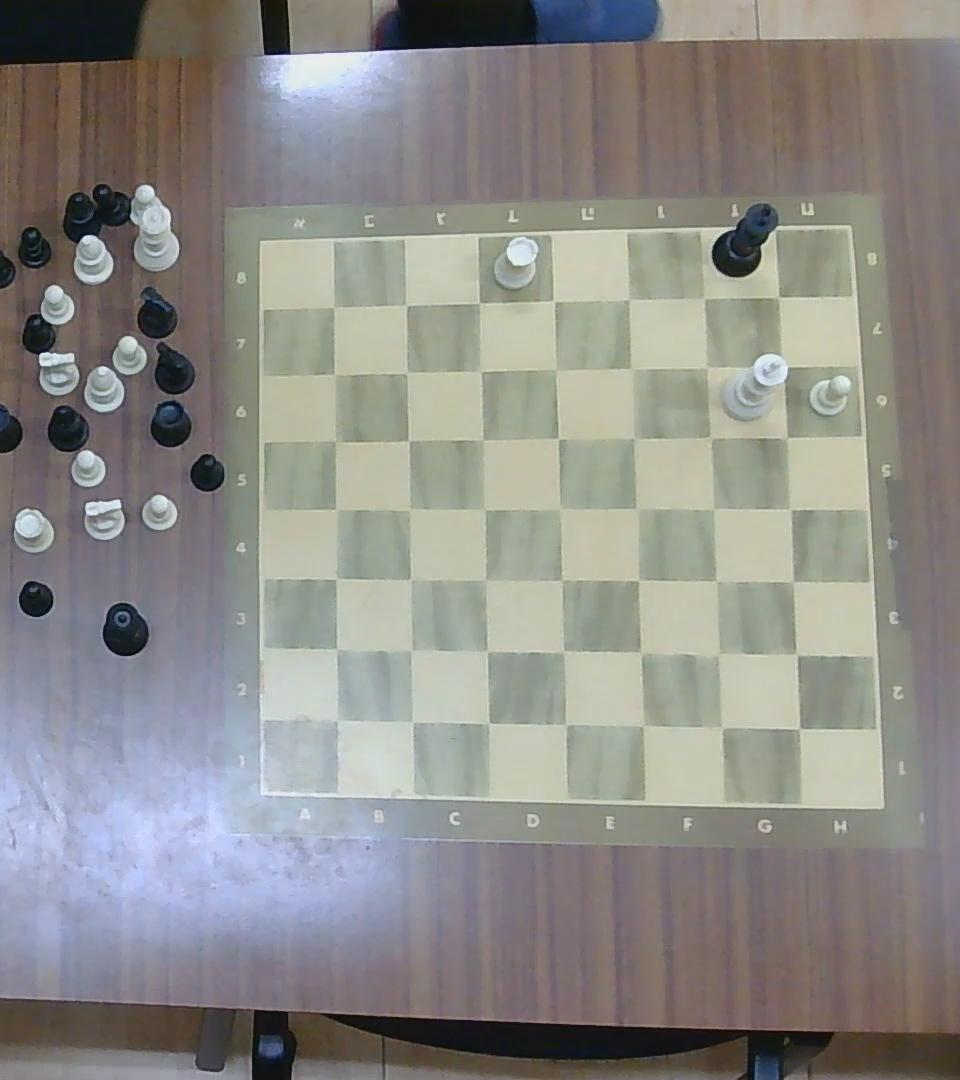xcorner: (702, 636, 734, 669), (471, 705, 502, 739), (548, 707, 579, 740), (626, 707, 657, 740), (699, 564, 730, 596), (621, 491, 652, 523), (705, 710, 735, 743), (464, 285, 494, 318), (781, 637, 812, 668), (775, 492, 806, 523), (625, 635, 655, 667), (548, 635, 578, 667), (471, 635, 501, 667), (783, 711, 813, 743), (622, 564, 652, 596), (538, 284, 568, 316), (547, 564, 577, 596), (321, 702, 351, 734), (470, 563, 500, 594), (698, 492, 728, 523), (541, 352, 571, 383), (776, 565, 807, 595), (616, 352, 646, 383), (768, 349, 799, 379), (397, 704, 426, 736), (465, 354, 495, 384), (317, 290, 347, 320), (771, 420, 801, 450), (395, 634, 424, 665), (391, 288, 420, 319), (321, 563, 350, 594), (394, 494, 423, 524), (545, 494, 574, 524), (615, 283, 644, 313), (543, 422, 573, 451), (395, 563, 423, 594), (392, 356, 421, 385), (697, 422, 726, 451), (693, 351, 722, 380), (620, 422, 649, 451), (470, 494, 498, 524), (322, 634, 350, 664), (467, 423, 495, 453), (393, 426, 423, 454), (322, 493, 350, 522), (691, 282, 719, 311), (765, 282, 793, 311), (321, 426, 349, 454), (320, 359, 348, 386)
